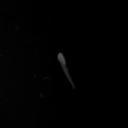fish: (58, 52, 76, 90)
